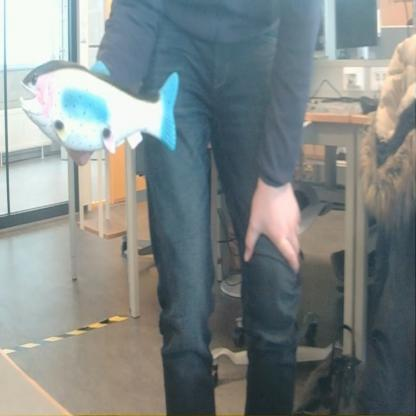rubberfish: (17, 57, 181, 156)
